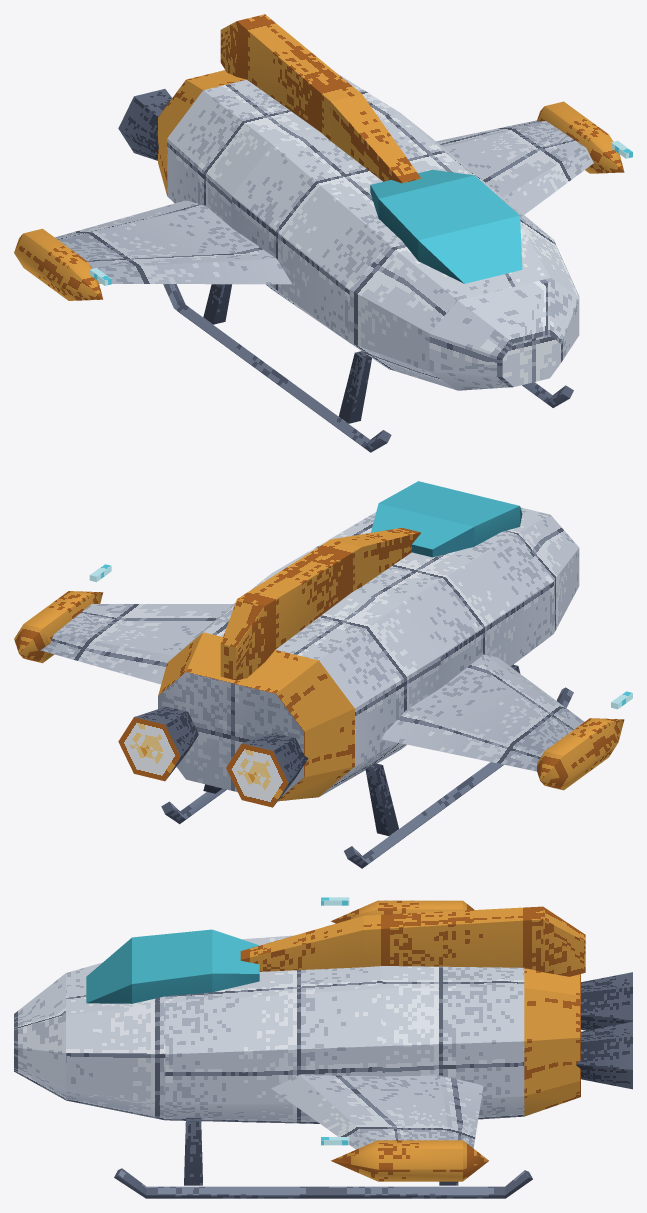
Rendered from ship.shuttle__level.glb.
The picture shows the model from 3 angles, top to bottom: view 1: azimuth 30°, elevation 25°; view 2: azimuth 150°, elevation 25°; view 3: azimuth 270°, elevation 25°; orthographic projection. The views are drawn at different scales.
Parts seen in each view (by area): view 1: kit_body, kit_wings, kit_spine, kit_canopy, kit_tip_pods, kit_skids, kit_struts, kit_thrusters; view 2: kit_body, kit_wings, kit_spine, kit_thrusters, kit_canopy, kit_tip_pods, kit_skids, kit_struts; view 3: kit_body, kit_spine, kit_wings, kit_canopy, kit_tip_pods, kit_thrusters, kit_skids, kit_struts, kit_nav_lights.
Boxes of the visible parts, x1,y1,x2,y2 form: kit_body: (158, 70, 579, 390); kit_wings: (55, 120, 593, 284); kit_spine: (220, 14, 420, 183); kit_canopy: (370, 169, 522, 283); kit_tip_pods: (14, 101, 624, 300); kit_skids: (163, 284, 573, 452); kit_struts: (203, 284, 371, 423); kit_thrusters: (118, 89, 171, 160); kit_body: (158, 507, 579, 801); kit_wings: (40, 604, 584, 771); kit_spine: (220, 528, 420, 680); kit_thrusters: (118, 706, 308, 807); kit_canopy: (371, 481, 522, 557); kit_tip_pods: (14, 591, 624, 790); kit_skids: (161, 687, 573, 868); kit_struts: (203, 664, 520, 835); kit_body: (14, 935, 580, 1123); kit_spine: (240, 906, 585, 976); kit_wings: (271, 1075, 483, 1149); kit_canopy: (86, 929, 259, 1003); kit_tip_pods: (331, 900, 488, 1181); kit_thrusters: (576, 972, 632, 1089); kit_skids: (114, 1168, 532, 1198); kit_struts: (184, 1117, 458, 1185); kit_nav_lights: (321, 897, 349, 1145).
Bounding box in the file's own units: 6.44 × 2.84 × 6.55.
7 materials, 6 textured.
